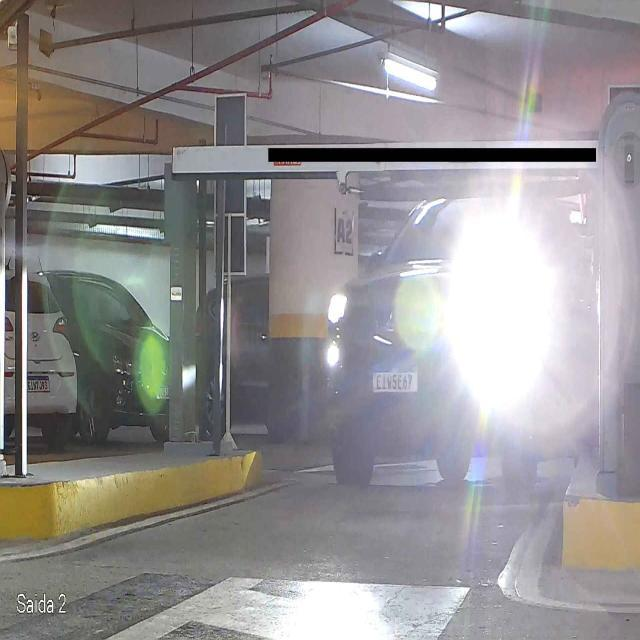mercosul_plate: (370, 365, 419, 393)
